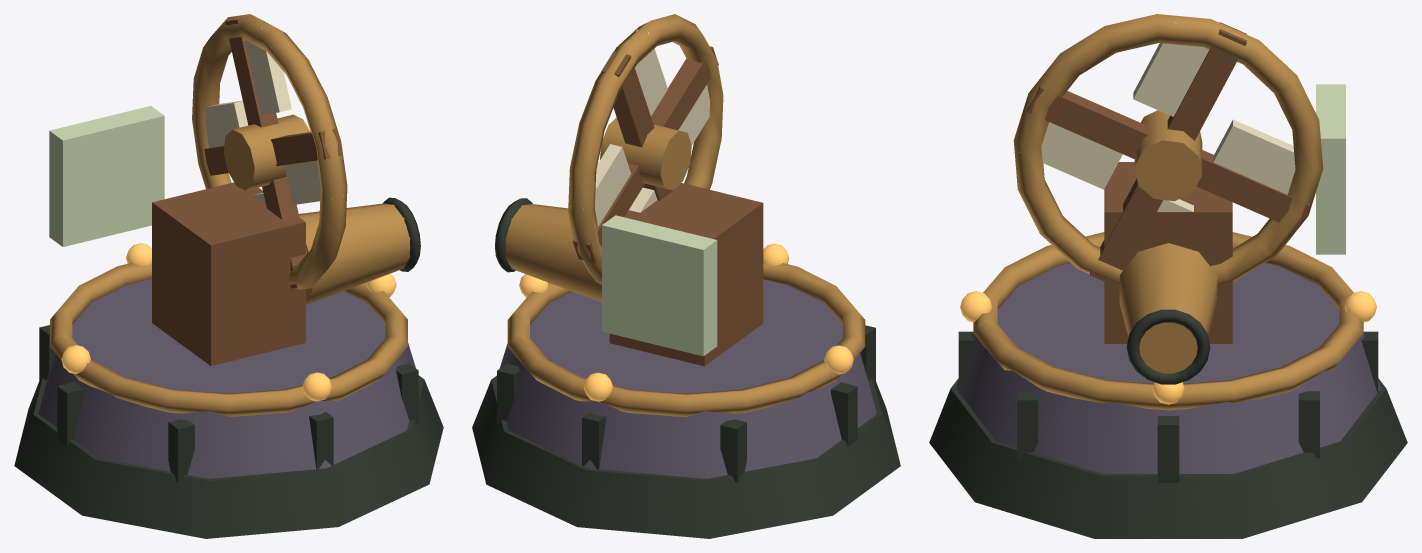
File: tower_wind_windSwitch.glb
3 renders of one model, left to right at view 1: azimuth 30°, elevation 25°; view 2: azimuth 150°, elevation 25°; view 3: azimuth 270°, elevation 25°, orthographic. The views are drawn at different scales.
Visible parts, largest first — view 1: stone_1, foot_0, mill_15, deflector_28, rim_2, guide_ring_16, air_nozzle_26, hub_17, sail_21, spar_20, spar_22, sail_19 (+11 smaller); view 2: stone_1, foot_0, deflector_28, rim_2, mill_15, guide_ring_16, air_nozzle_26, hub_17, spar_22, spar_20, sail_19, mortar_8 (+10 smaller); view 3: stone_1, foot_0, guide_ring_16, rim_2, air_nozzle_26, mill_15, deflector_28, hub_17, sail_19, spar_22, sail_21, sail_23 (+12 smaller).
Part boxes in pixels (left/top/right/bottom): stone_1: left=38, top=279, right=419, bottom=478; foot_0: left=14, top=375, right=443, bottom=538; mill_15: left=152, top=182, right=305, bottom=365; deflector_28: left=49, top=106, right=164, bottom=246; rim_2: left=50, top=262, right=407, bottom=416; guide_ring_16: left=192, top=14, right=347, bottom=289; air_nozzle_26: left=299, top=203, right=410, bottom=304; hub_17: left=223, top=114, right=310, bottom=190; sail_21: left=245, top=25, right=291, bottom=114; spar_20: left=225, top=19, right=278, bottom=127; spar_22: left=270, top=128, right=342, bottom=166; sail_19: left=205, top=100, right=248, bottom=147; stone_1: left=496, top=279, right=876, bottom=478; foot_0: left=472, top=375, right=900, bottom=538; deflector_28: left=602, top=215, right=717, bottom=356; rim_2: left=507, top=263, right=865, bottom=416; mill_15: left=609, top=183, right=763, bottom=366; guide_ring_16: left=568, top=14, right=723, bottom=284; air_nozzle_26: left=505, top=204, right=601, bottom=302; hub_17: left=600, top=117, right=691, bottom=190; spar_22: left=651, top=46, right=718, bottom=130; spar_20: left=601, top=51, right=654, bottom=147; sail_19: left=571, top=144, right=630, bottom=226; mortar_8: left=720, top=419, right=746, bottom=482; stone_1: left=956, top=263, right=1380, bottom=473; foot_0: left=929, top=378, right=1407, bottom=538; guide_ring_16: left=1013, top=14, right=1323, bottom=284; rim_2: left=973, top=232, right=1363, bottom=410; air_nozzle_26: left=1119, top=243, right=1217, bottom=373; mill_15: left=1104, top=162, right=1232, bottom=343; deflector_28: left=1316, top=84, right=1345, bottom=254; hub_17: left=1134, top=110, right=1202, bottom=201; sail_19: left=1213, top=119, right=1317, bottom=194; spar_22: left=1027, top=85, right=1148, bottom=158; sail_21: left=1133, top=22, right=1208, bottom=116; sail_23: left=1019, top=122, right=1122, bottom=189.
Bounding box in the file's own units: 0.5326 × 0.5815 × 0.56.
